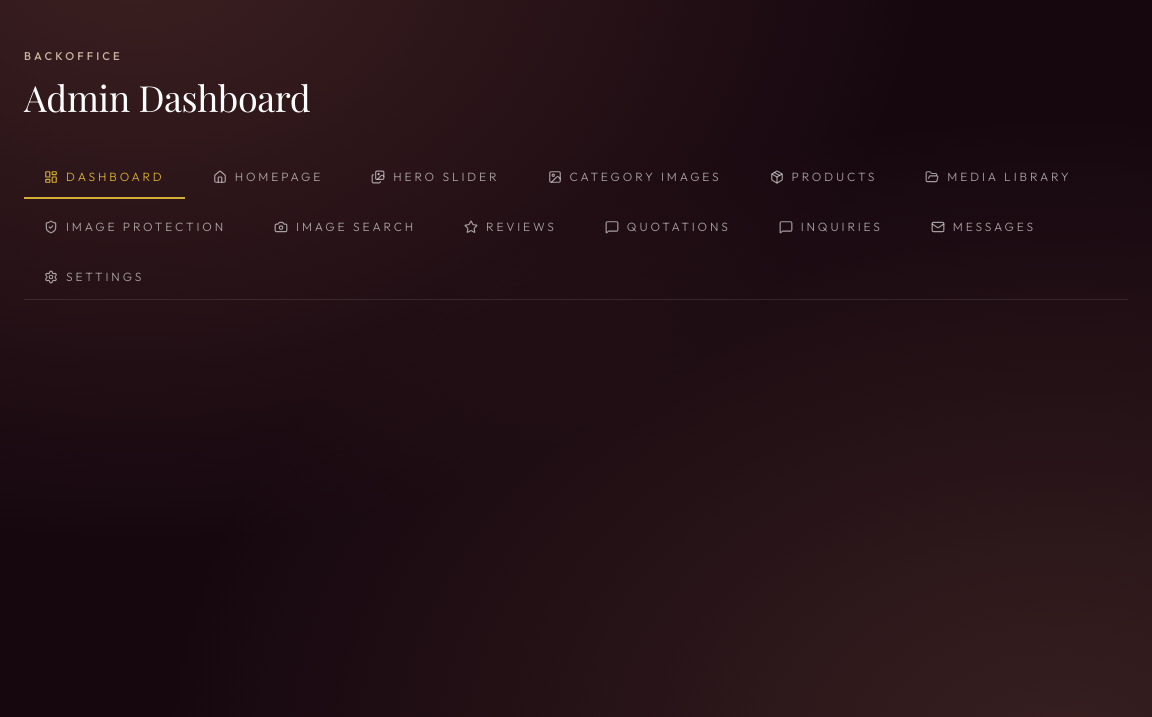
Test: Admin Messages — deletion controls › individual trash icon deletes a single message
Later steps or results of the test are not shown.
Step 1. Click the button with test id "admin-tab-messages" → [983, 228], box 911,207 -> 1056,249
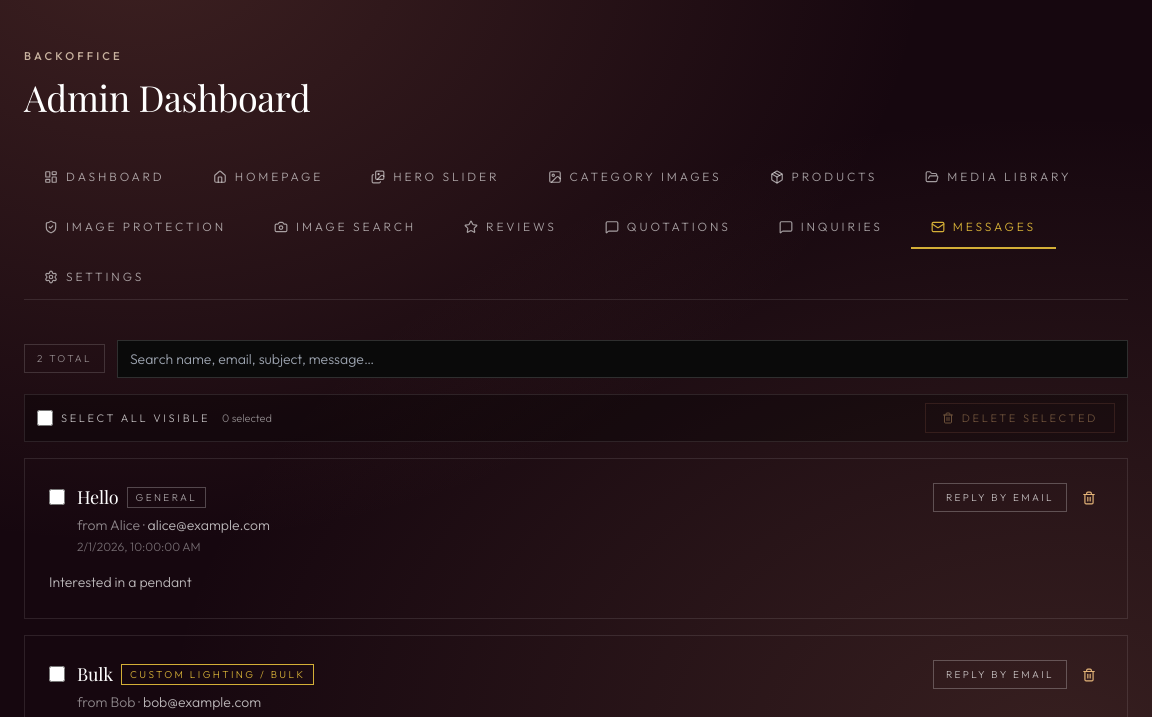
Result: the element with test id "msg-msg-1" is shown at 24,458 -> 1128,619
Step 2. Click the button with test id "msg-delete-msg-1" → [1089, 498], box 1075,484 -> 1103,512
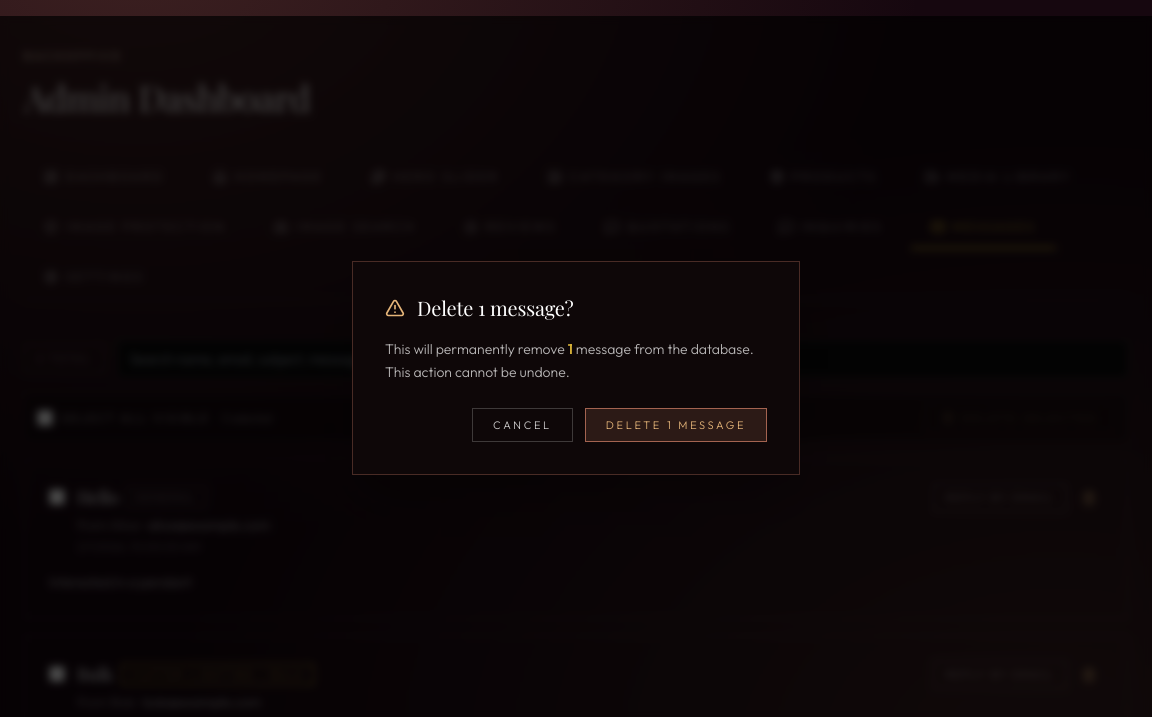
Result: the text with test id "msg-delete-modal-count" reads "1" at 568,340 -> 573,358
Result: the dialog with test id "msg-delete-modal" shows "Delete 1 message" at 585,408 -> 767,442
